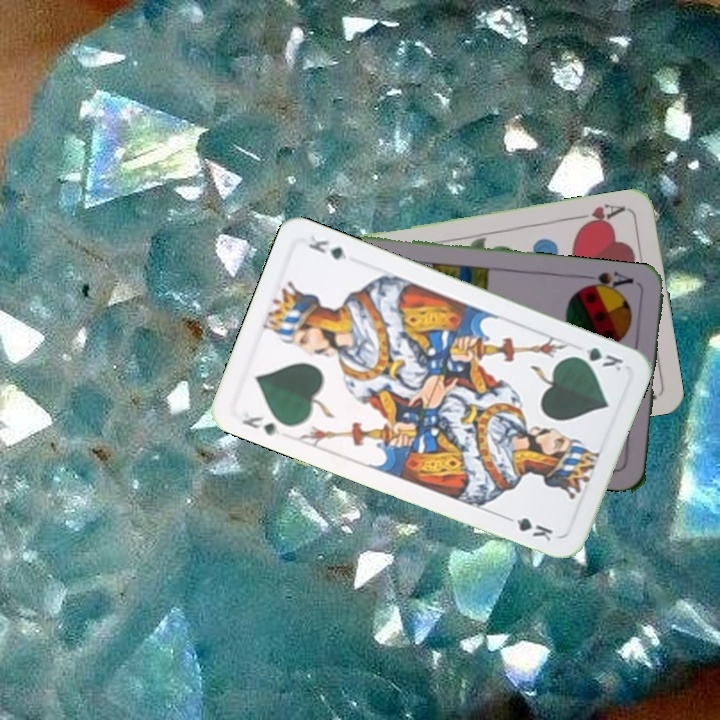GK: (568, 343, 626, 374), (238, 407, 283, 439)
HA: (571, 200, 630, 231)
SA: (580, 268, 637, 296)
